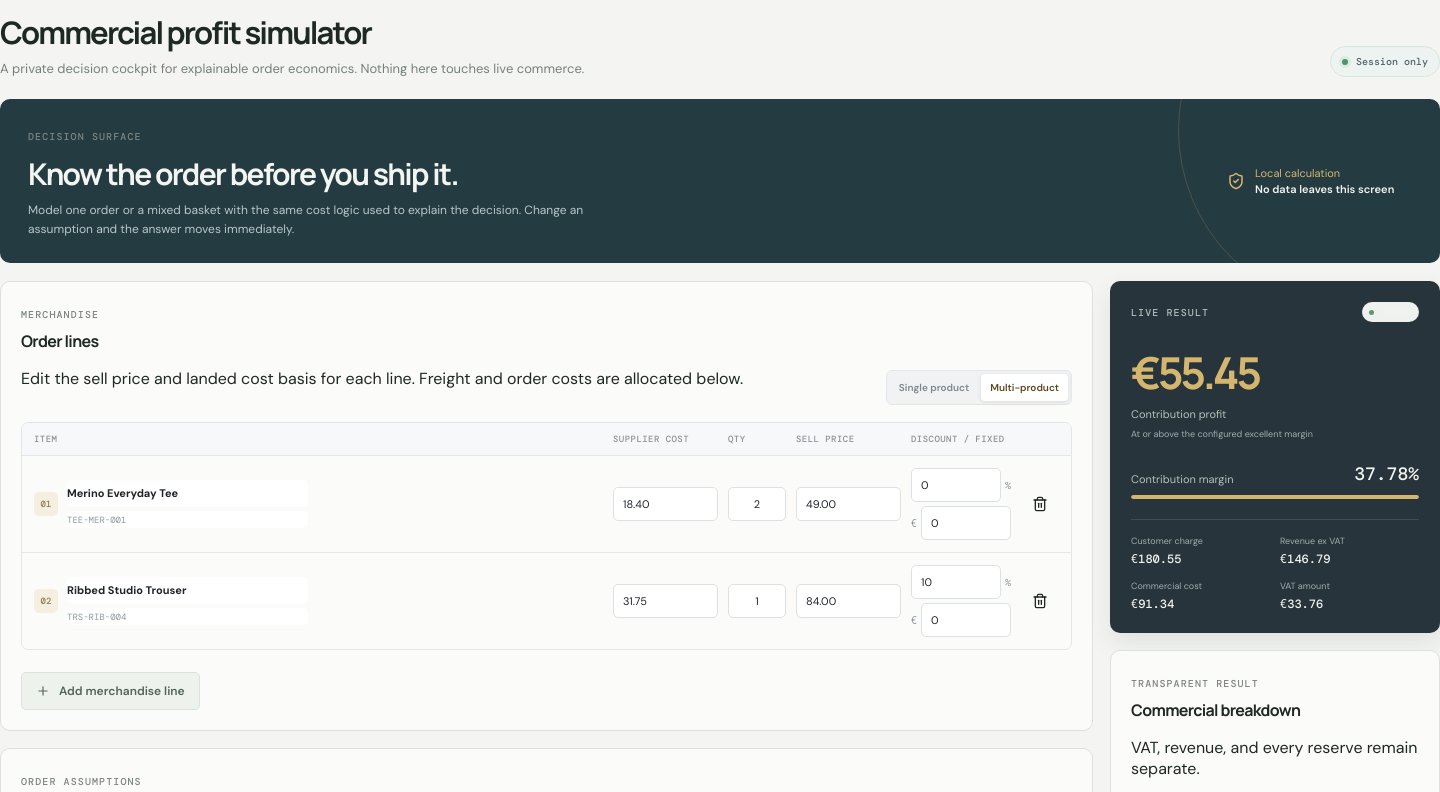
Test: CommercialProfitSimulatorPage › shows an optional pricing-band reference only when populated
Clear the field named "Merino Everyday Tee pricing band reference" at (188, 520), box [67,511,308,528]
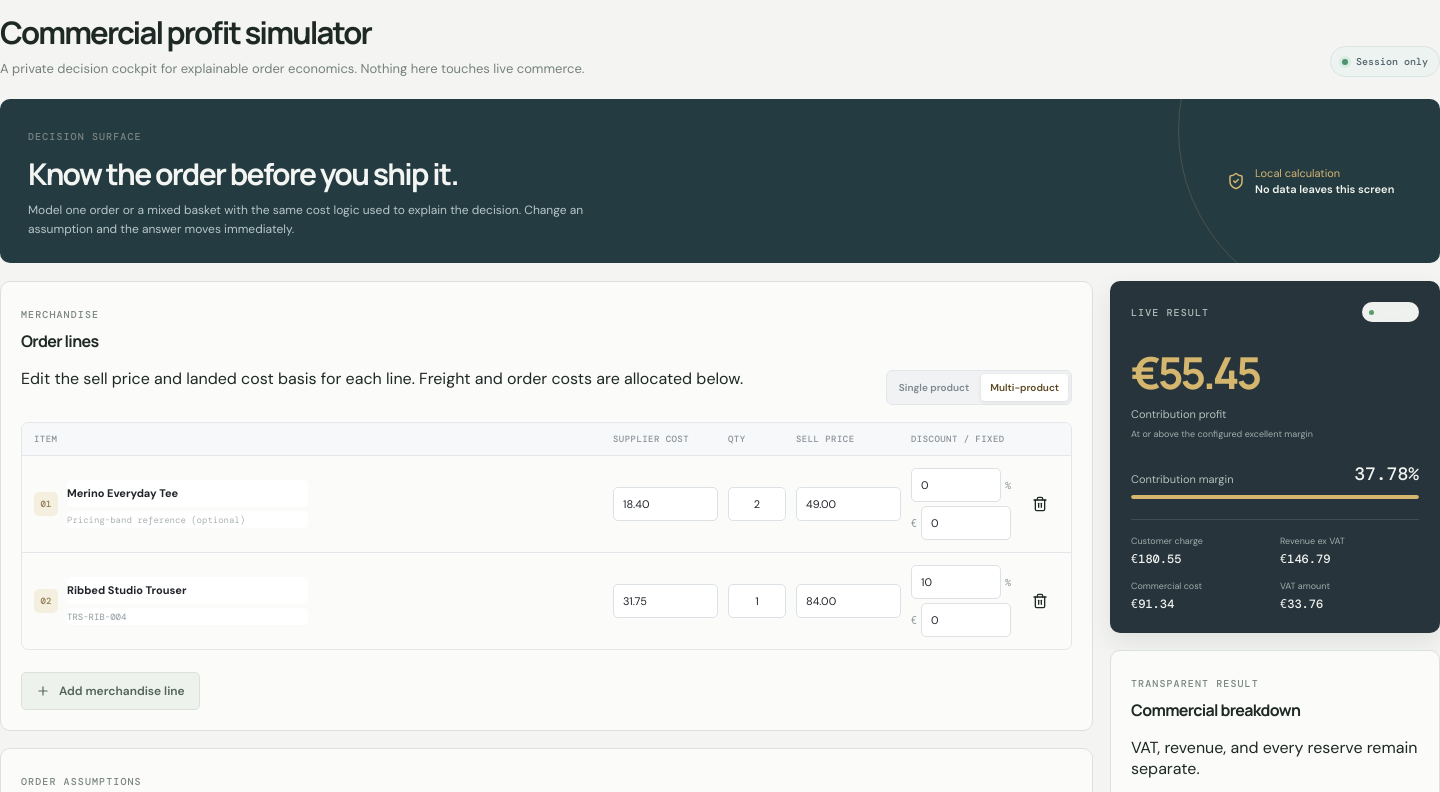
Expected: the text "TEE-MER-001" is not shown
Type "70% band" into the field named "Merino Everyday Tee pricing band reference" at (188, 520), box [67,511,308,528]
(page scrolled)
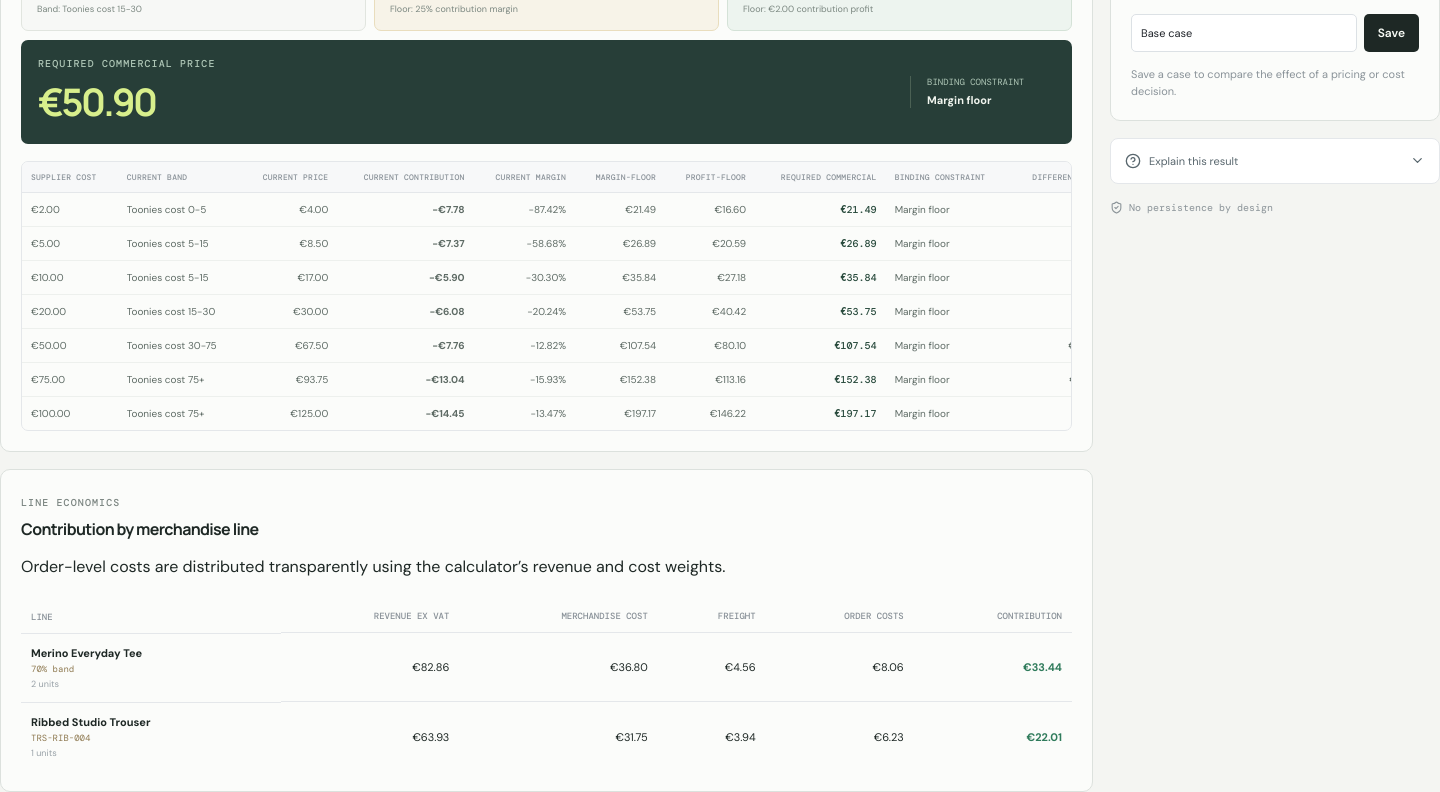
Expected: the text "70% band" is shown, [31,663,74,675]
